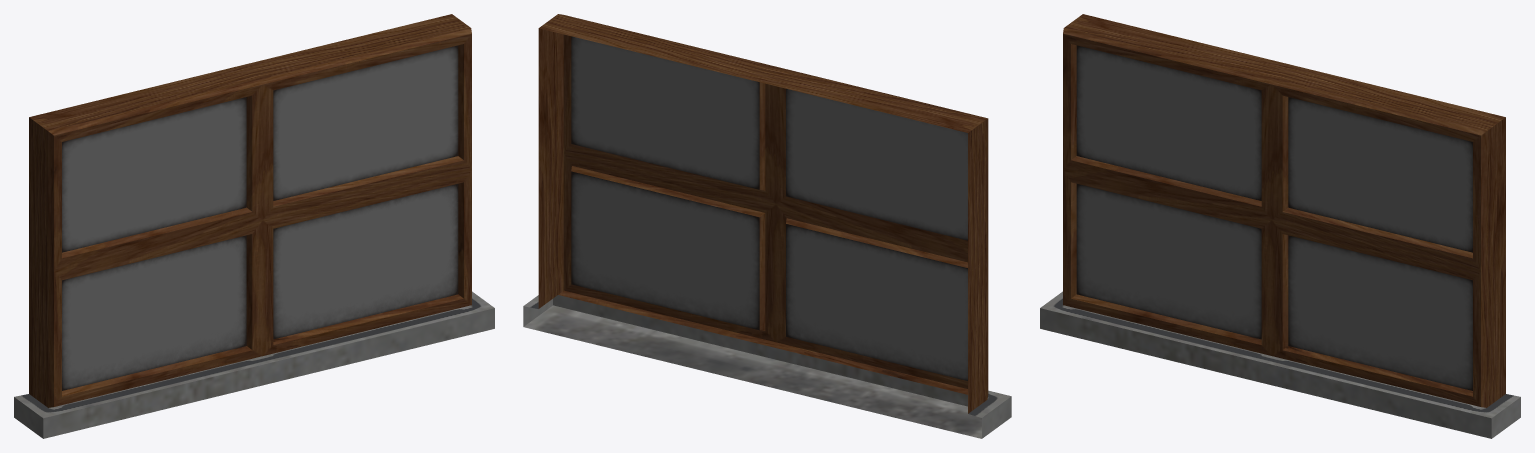
Rendered from Module_Window1.fbx.
3 renders of one model, left to right at view 1: azimuth 30°, elevation 25°; view 2: azimuth 150°, elevation 25°; view 3: azimuth 330°, elevation 25°, orthographic.
Visible parts, largest first — view 1: Module_Door_Window1; view 2: Module_Door_Window1; view 3: Module_Door_Window1.
Part boxes in pixels (<box>): Module_Door_Window1: <box>14,14,494,438</box>; Module_Door_Window1: <box>523,14,1011,438</box>; Module_Door_Window1: <box>1040,14,1520,438</box>.
Size of the model in its own units: 171 by 107 by 19.18.
